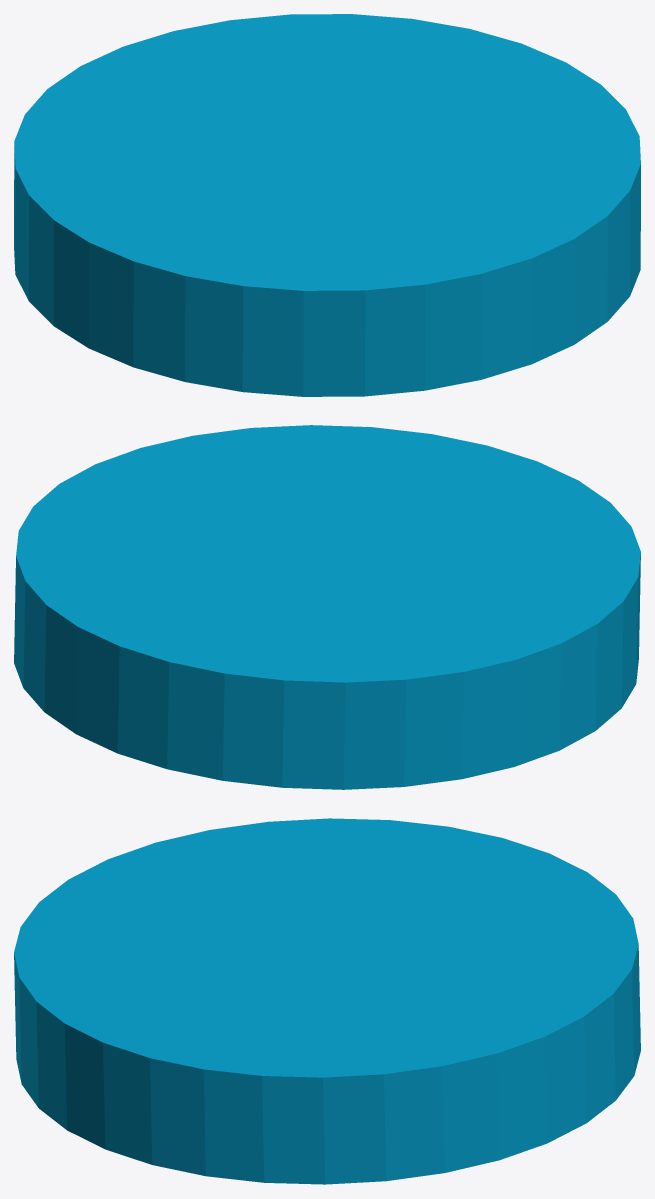
The model's file is blue_cell.fbx.
3 views of the same model, one above another, from view 1: azimuth 30°, elevation 25°; view 2: azimuth 150°, elevation 25°; view 3: azimuth 270°, elevation 25° (orthographic).
Visible parts, largest first — view 1: Cylinder; view 2: Cylinder; view 3: Cylinder.
Boxes of the visible parts, x1,y1,x2,y2 form: Cylinder: (14,14,640,396); Cylinder: (14,425,640,789); Cylinder: (14,818,640,1184).
Bounding box in the file's own units: 0.9501 × 0.1989 × 0.9517.
